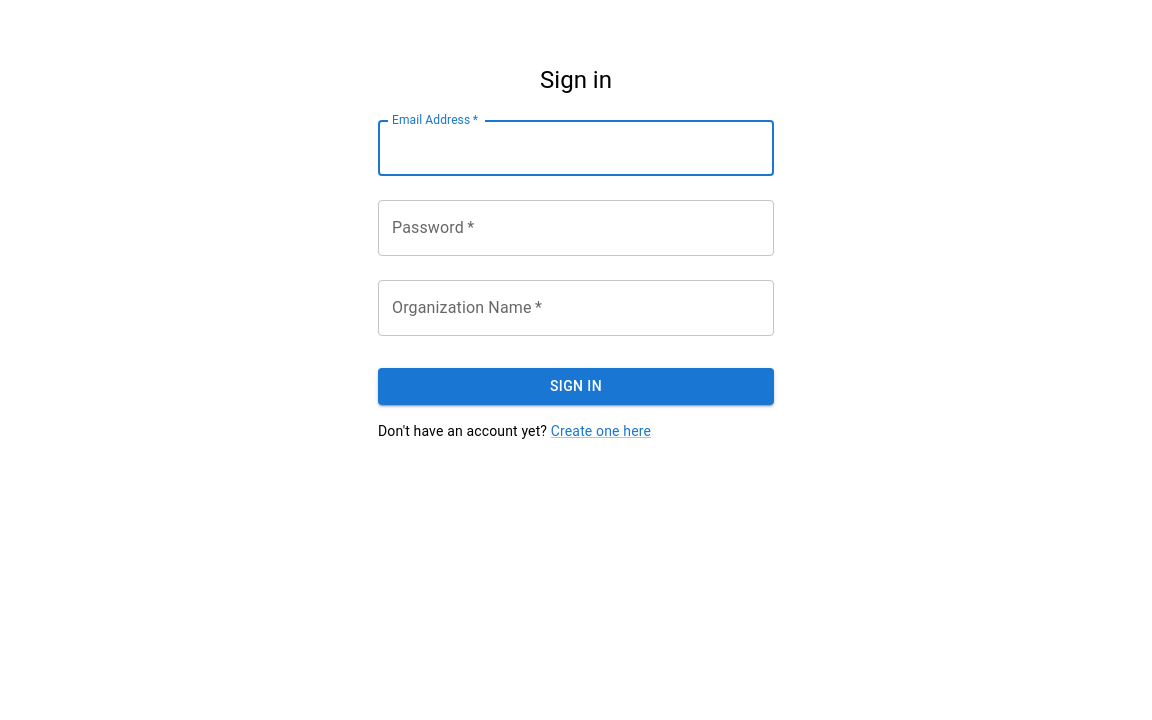
Test: Manager Tests › Login Test
The image size is (1152, 720).
Type "manager@email.com" into the field named "email" at (576, 148), box [378,120,774,176]
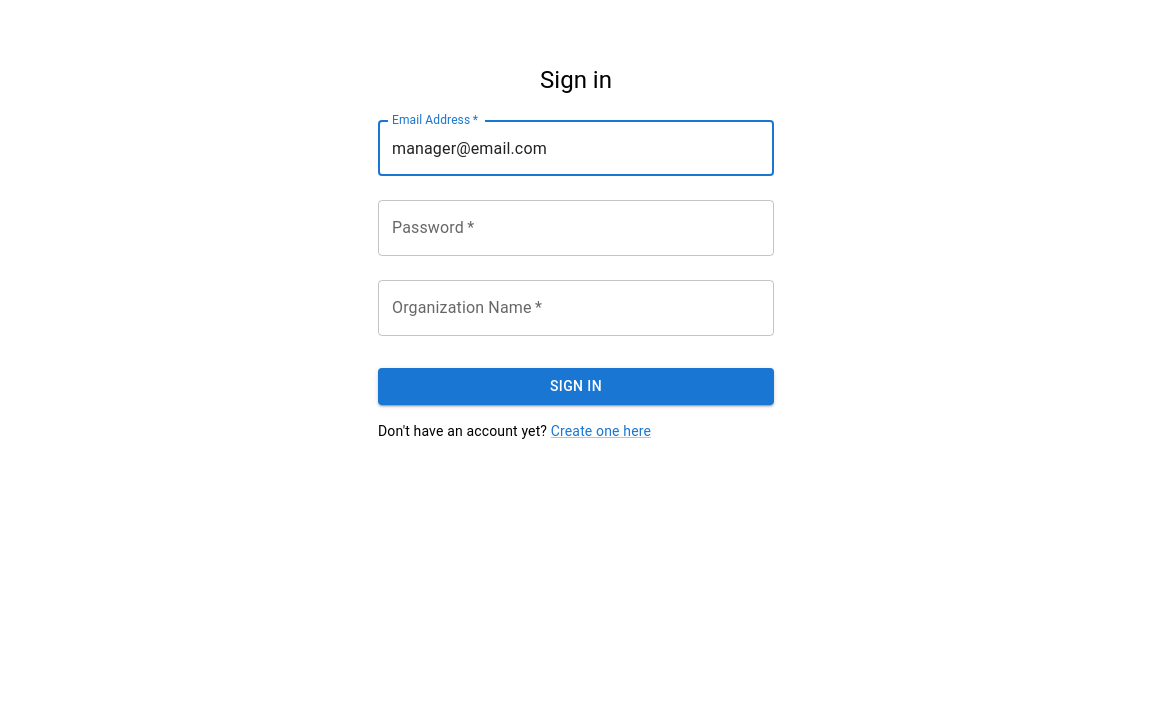
Type "manager" into the password field named "password" at (576, 228), box [378,200,774,256]
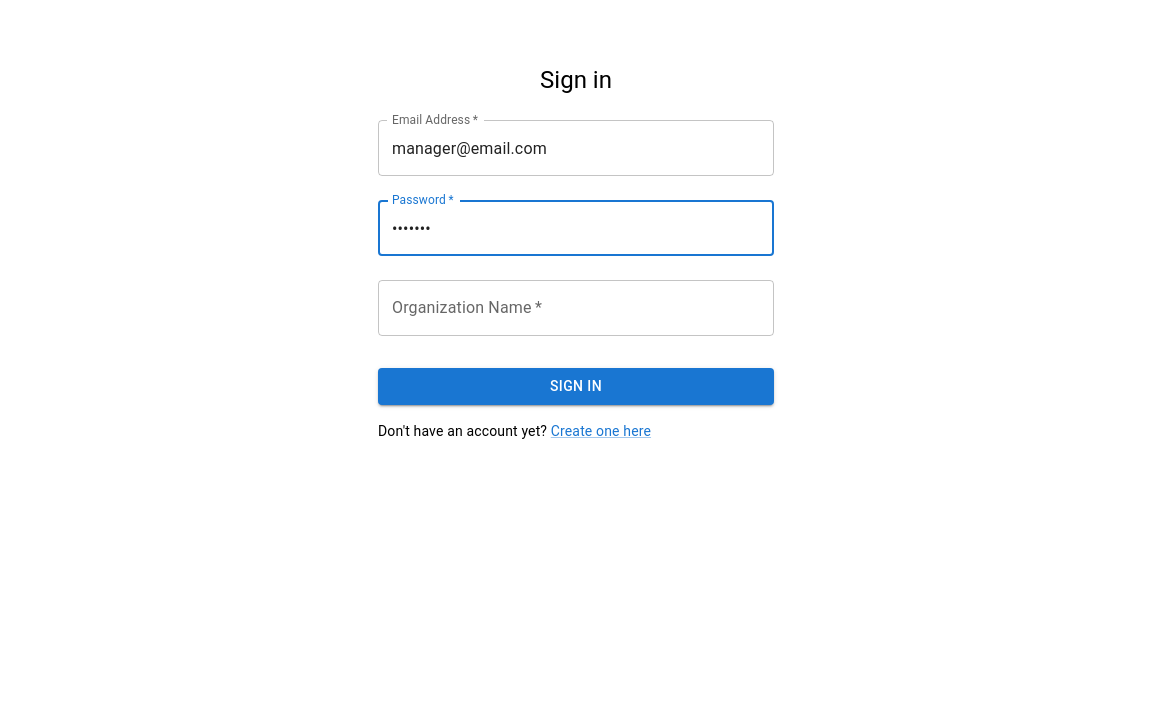
Type "org" into the field named "orgName" at (576, 308), box [378,280,774,336]
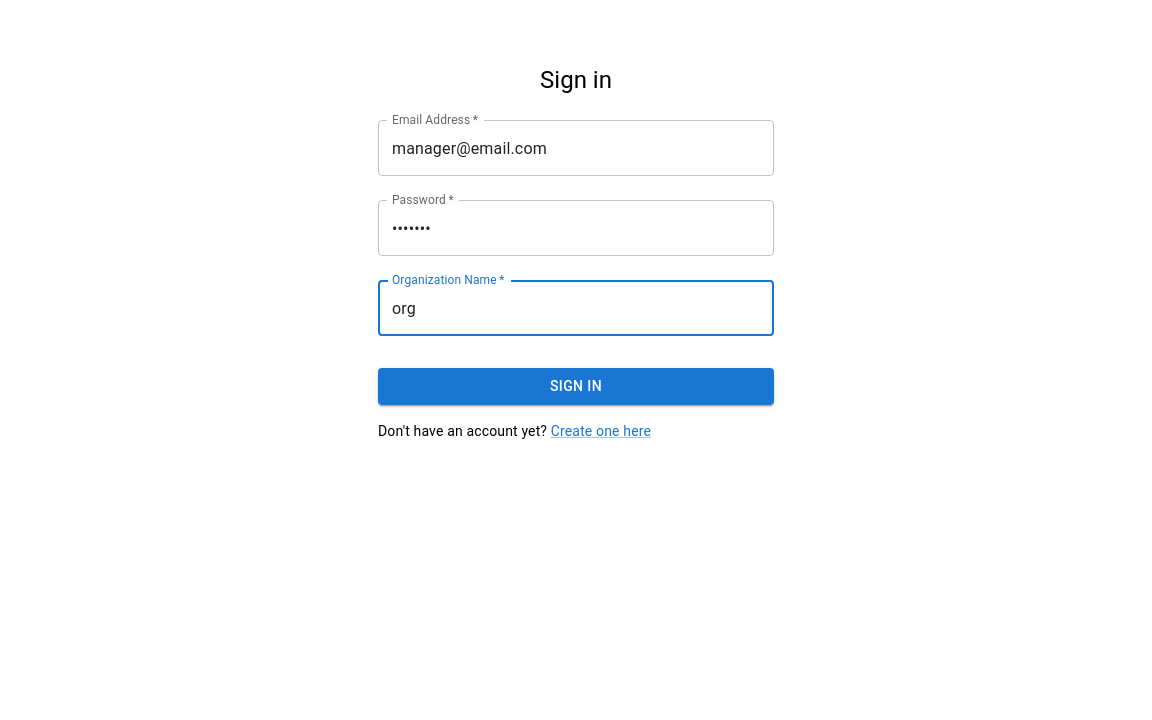
Click the submit button at (576, 387), box [378,368,774,405]
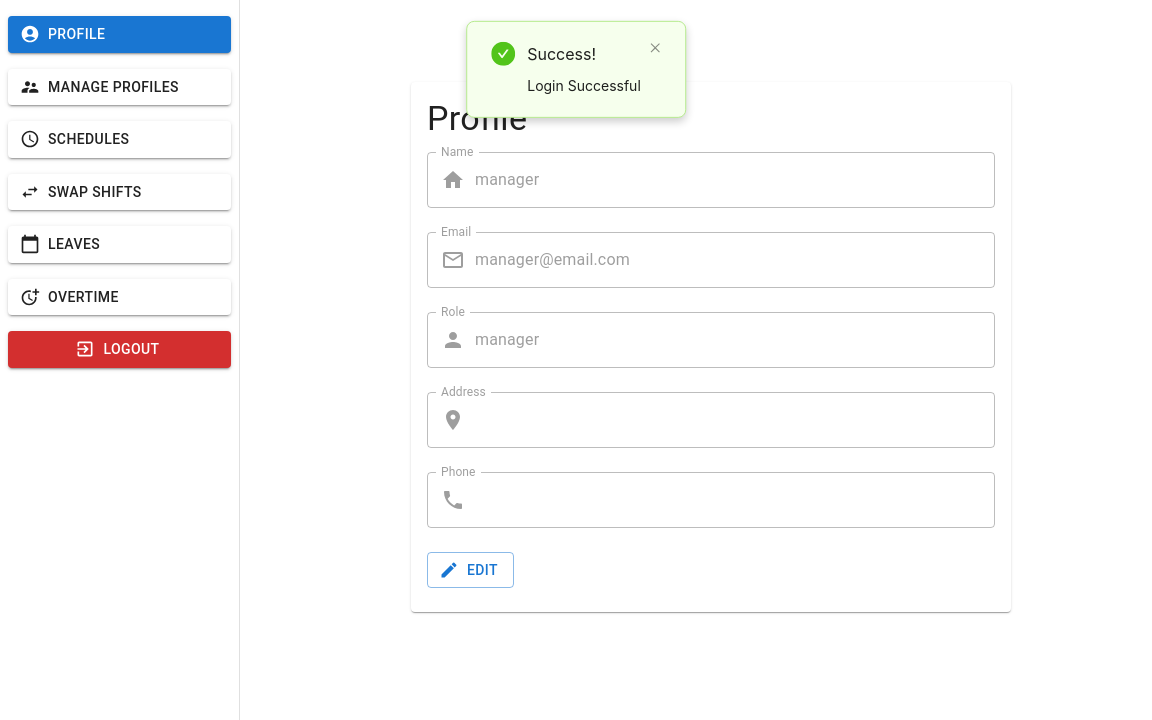
Expected: the field named "name" holds "manager", [475,152,995,208]
Expected: the field named "email" holds "manager@email.com", [475,232,995,288]
Expected: the field named "role" holds "manager", [475,312,995,368]
